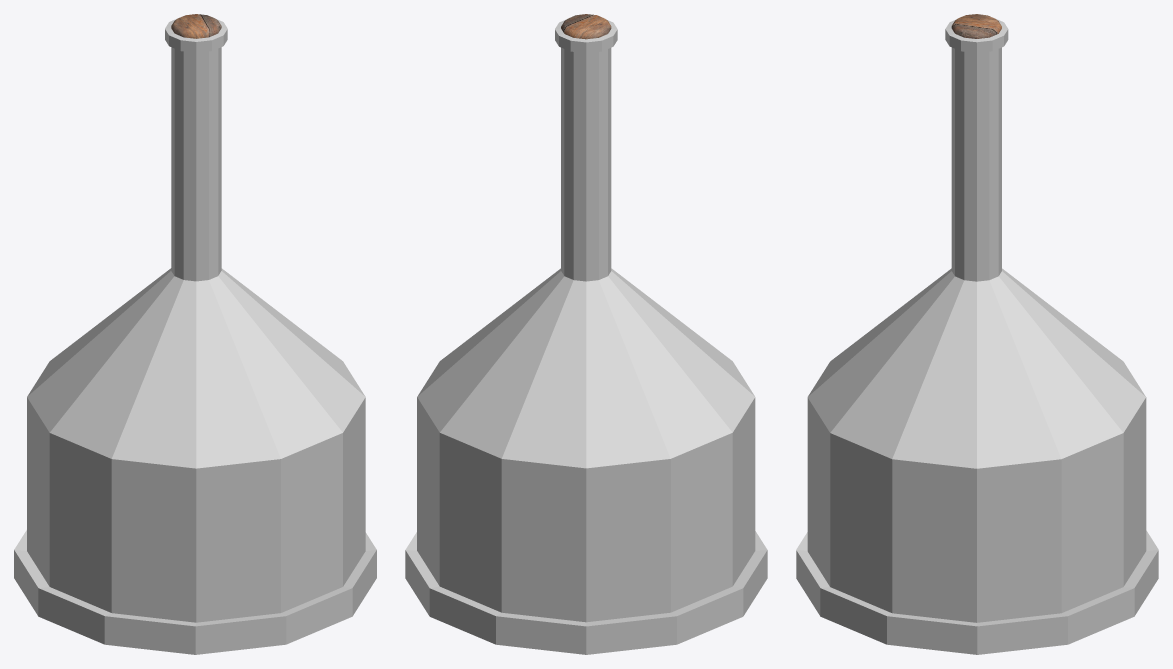
The model's file is bottle2 closed no fill.fbx.
3 renders of one model, left to right at view 1: azimuth 30°, elevation 25°; view 2: azimuth 150°, elevation 25°; view 3: azimuth 270°, elevation 25°, orthographic.
Parts seen in each view (by area): view 1: Cylinder.013; view 2: Cylinder.013; view 3: Cylinder.013.
Boxes of the visible parts, x1,y1,x2,y2 form: Cylinder.013: (14,14,376,654); Cylinder.013: (405,14,767,654); Cylinder.013: (796,14,1158,654).
Size of the model in its own units: 54.66 by 92.42 by 54.66.
2 materials, 1 textured.
